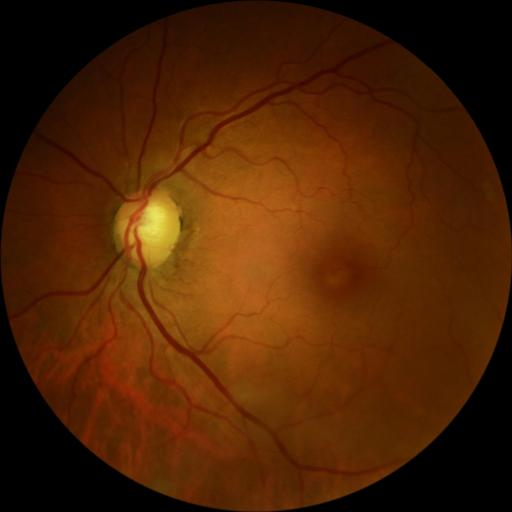Optic Cup: (136, 205, 166, 246)
Optic Disc: (112, 190, 180, 271)
